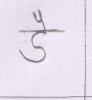ai_matra: (33, 9, 50, 29)
